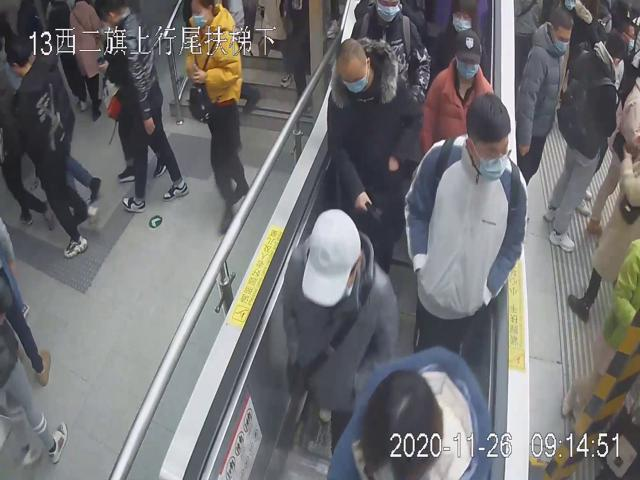person: (404, 93, 528, 377), (281, 204, 396, 461), (329, 36, 422, 275), (419, 28, 495, 153), (435, 0, 490, 79)
